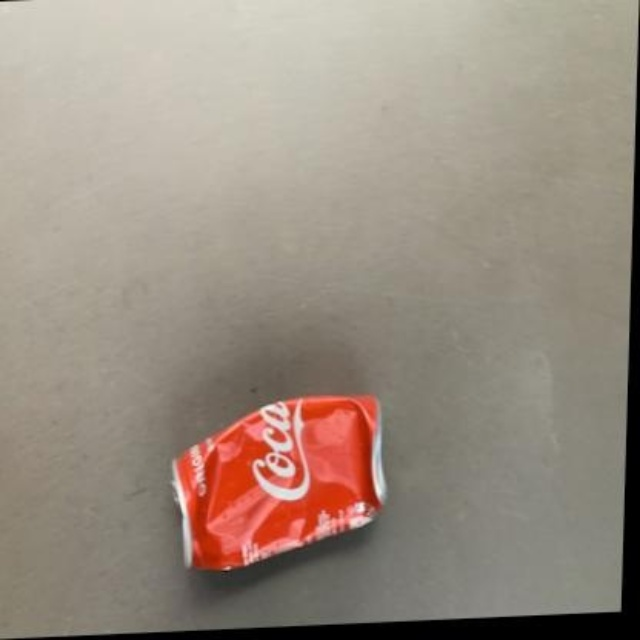trash: (172, 395, 385, 569)
